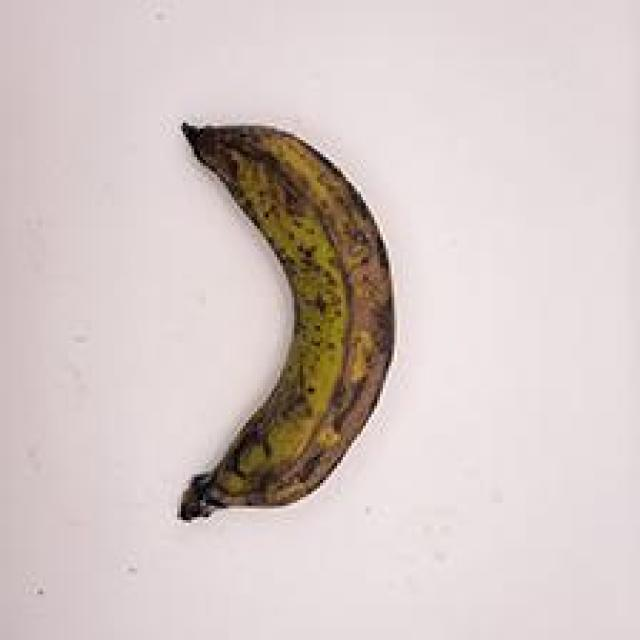Overripe: (132, 99, 426, 535)
